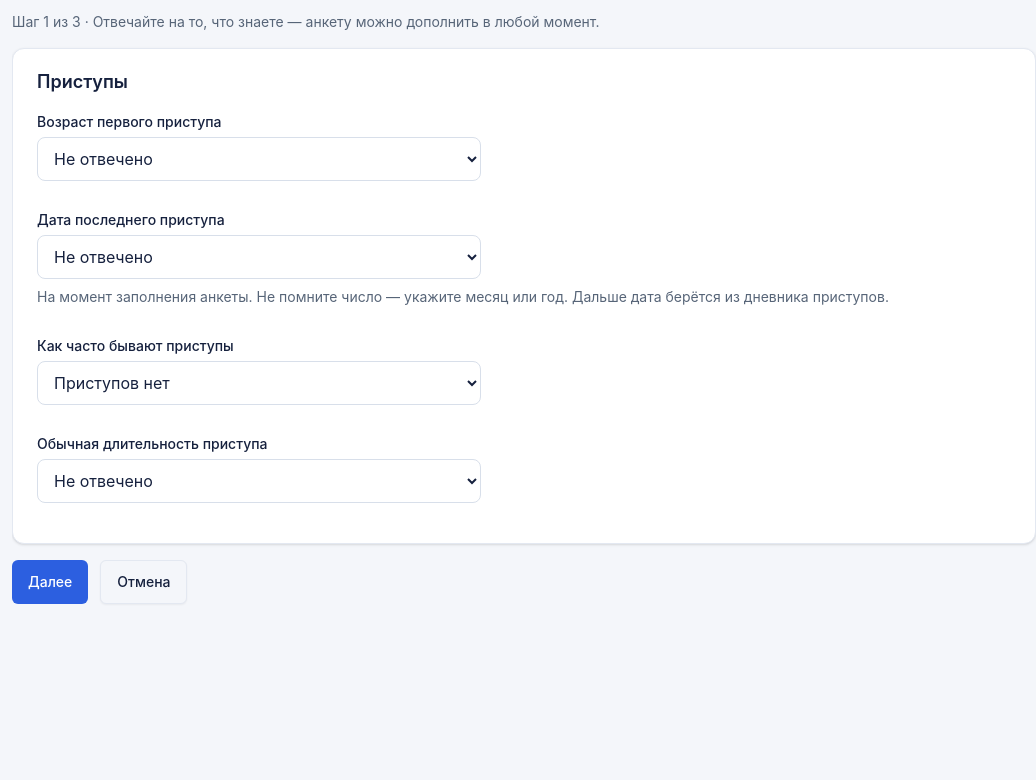
свобода от приступов измеряется сроком › анкету, сохранённую без даты до правила, не запирает
The width and height of the screenshot is (1036, 780).
Click the button "Далее" at coordinates (50, 582), box [12, 560, 88, 604]
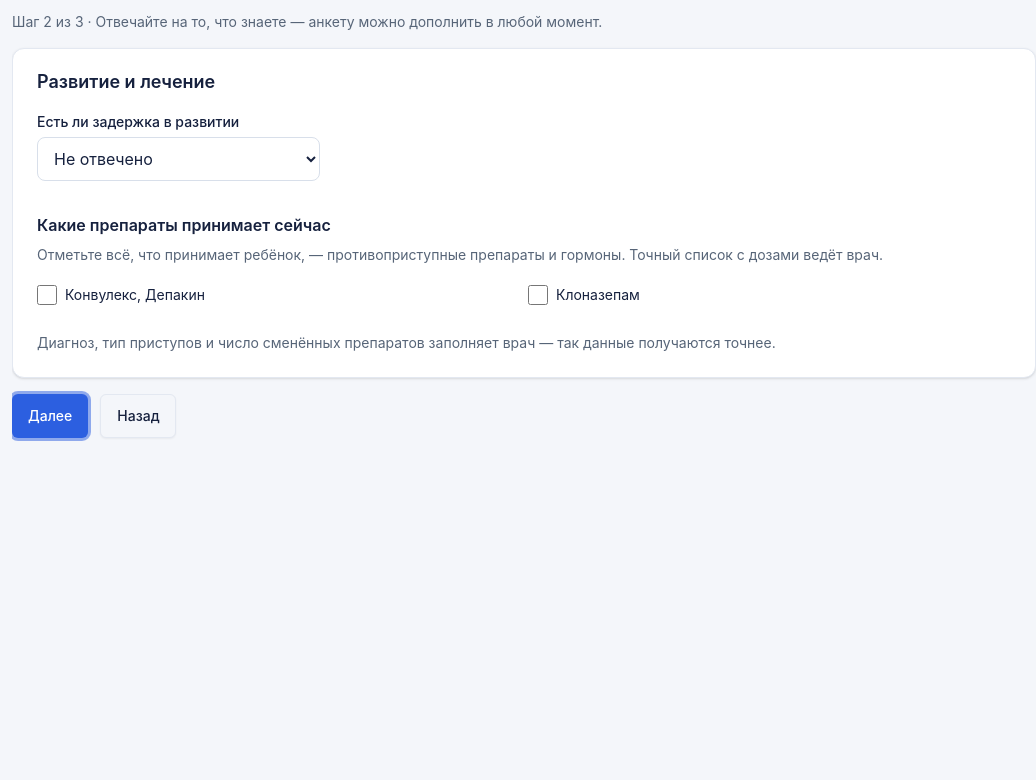
Expected: the text "Шаг 2 из 3" is shown, [12, 13, 84, 30]
